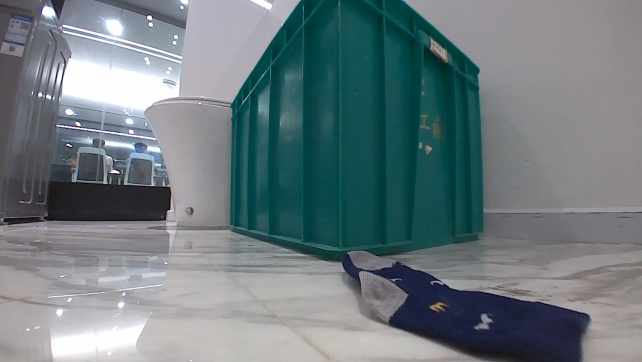socks: (340, 247, 590, 361)
toilet: (142, 93, 234, 230)
washing_machine1: (0, 0, 74, 228)
